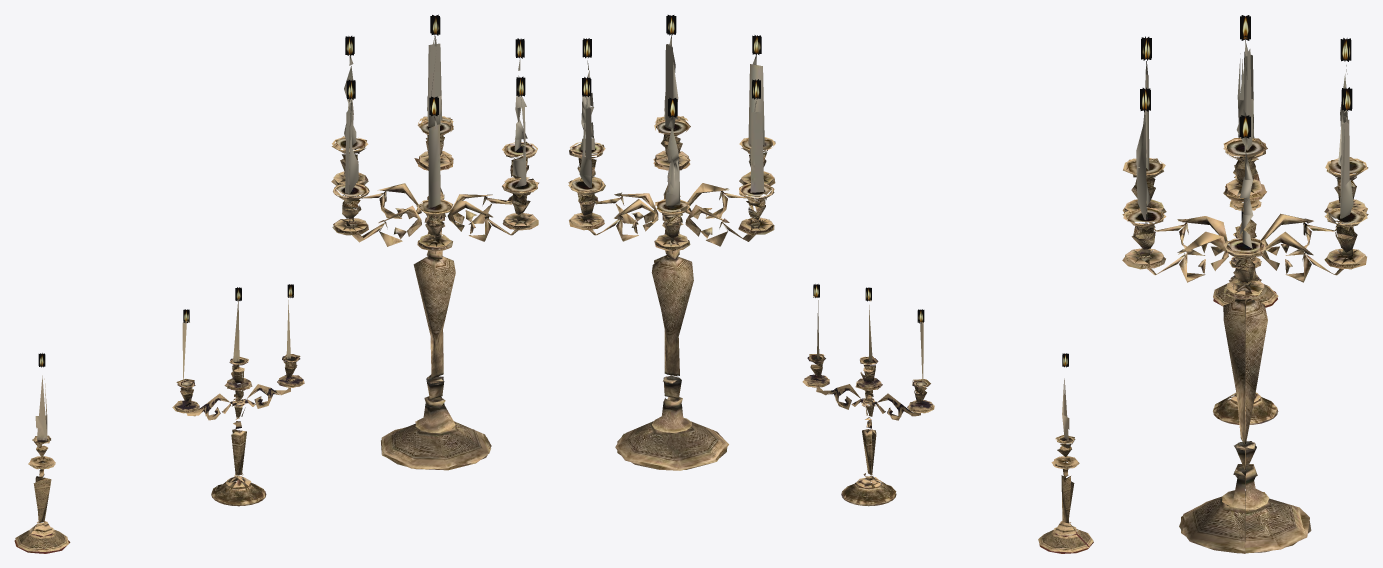
The model's file is candleholders_lo.glb.
3 views of the same model, side by side, from view 1: azimuth 30°, elevation 25°; view 2: azimuth 150°, elevation 25°; view 3: azimuth 270°, elevation 25° (orthographic). The views are drawn at different scales.
Parts seen in each view (by area): view 1: brass_candleholder_03; view 2: brass_candleholder_03; view 3: brass_candleholder_03.
Part boxes in pixels (x1,y1,x2,y2): brass_candleholder_03: [14, 14, 539, 553]; brass_candleholder_03: [568, 15, 1093, 553]; brass_candleholder_03: [1122, 15, 1368, 553].
Size of the model in its own units: 1.05 by 0.836 by 0.3666.
Materials: 5 (5 with a texture image).
